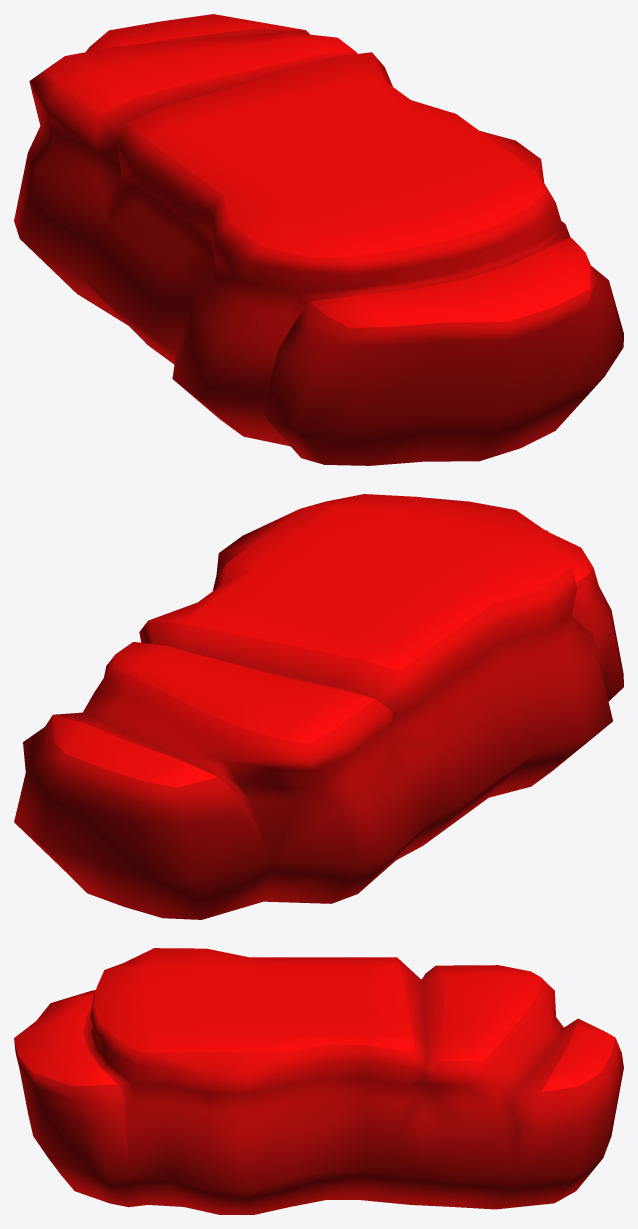
Rendered from geology-landforms-icefloe_v7.fbx.
3 renders of one model, top to bottom at view 1: azimuth 30°, elevation 25°; view 2: azimuth 150°, elevation 25°; view 3: azimuth 270°, elevation 25°, orthographic. The views are drawn at different scales.
Visible parts, largest first — view 1: IceFloe_v7; view 2: IceFloe_v7; view 3: IceFloe_v7.
Part boxes in pixels (left/top/right/bottom): IceFloe_v7: left=14, top=14, right=623, bottom=465; IceFloe_v7: left=14, top=494, right=623, bottom=919; IceFloe_v7: left=14, top=948, right=623, bottom=1214.
Size of the model in its own units: 2.83 by 1.37 by 4.79.
